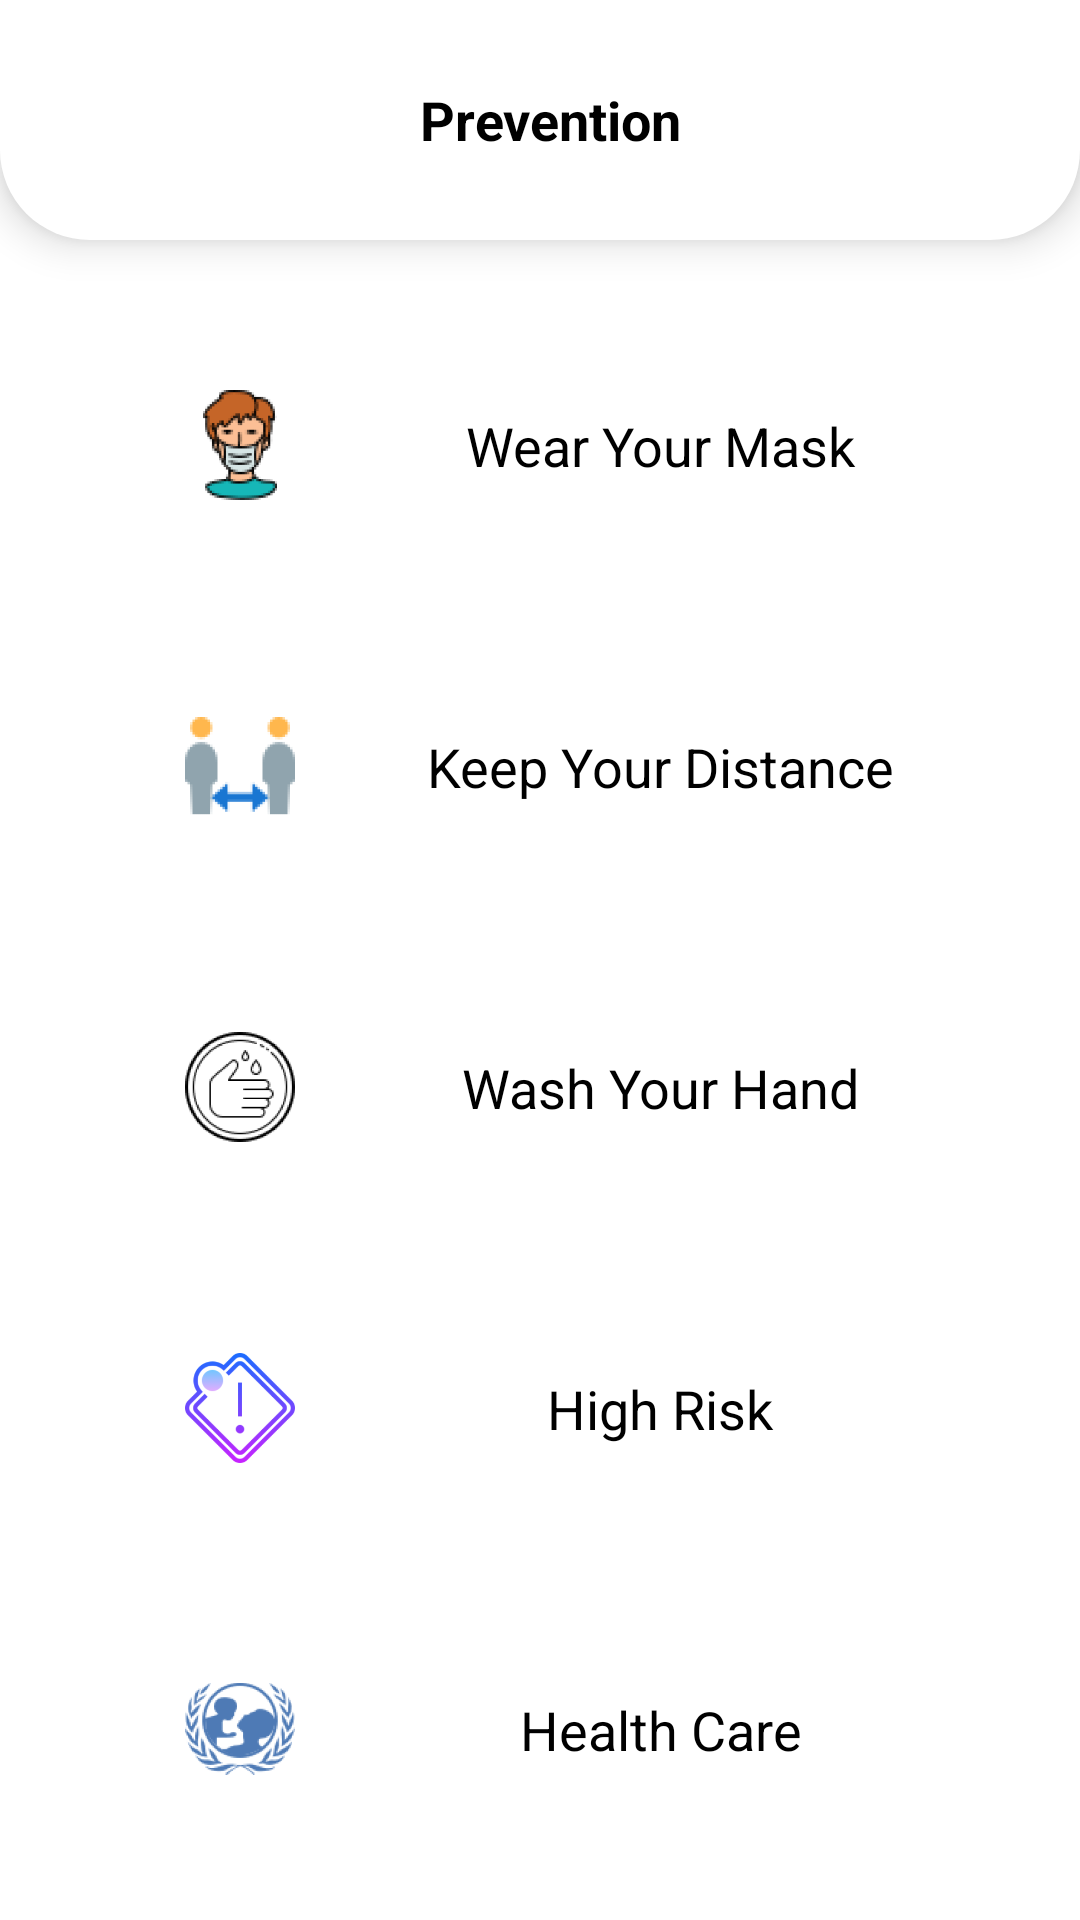

Icon click points for this 1080*1920 phone screenshot, format [x,y]:
diatance: [240,765]
